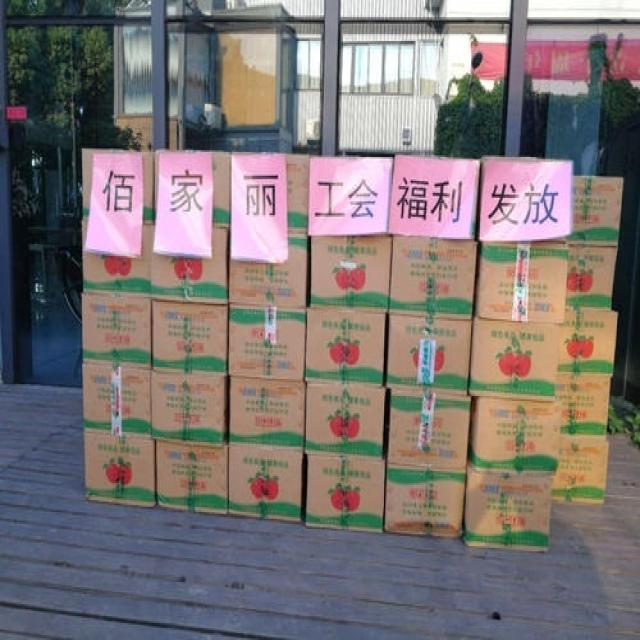box: (463, 459, 552, 551), (466, 316, 562, 398), (476, 158, 571, 240), (476, 241, 569, 323), (389, 235, 478, 318), (387, 386, 472, 469), (392, 158, 479, 237), (387, 312, 471, 393), (228, 228, 311, 309), (470, 396, 557, 472), (305, 380, 386, 461), (309, 157, 394, 234), (304, 451, 385, 531), (308, 233, 392, 310), (149, 222, 228, 303), (382, 463, 468, 536), (306, 308, 387, 385), (155, 151, 232, 229), (233, 153, 310, 229), (152, 299, 228, 375), (151, 368, 227, 443), (229, 374, 306, 448), (228, 307, 306, 380), (154, 434, 227, 511), (228, 443, 301, 520), (82, 219, 155, 295), (82, 290, 151, 369), (84, 429, 155, 505), (83, 151, 156, 222), (83, 363, 152, 436), (558, 305, 617, 377), (568, 175, 626, 247), (550, 431, 607, 503), (554, 373, 612, 436), (565, 244, 618, 309)
